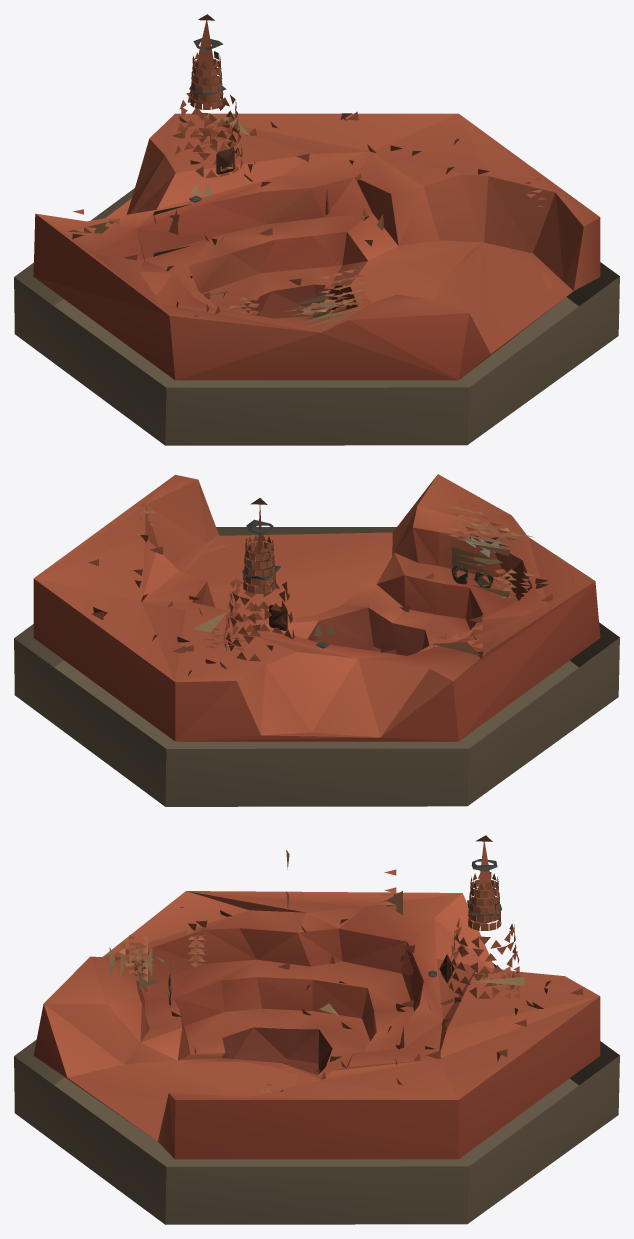
Rendered from tile_clay_lod1.glb.
The picture shows the model from 3 angles, top to bottom: view 1: azimuth 30°, elevation 25°; view 2: azimuth 150°, elevation 25°; view 3: azimuth 270°, elevation 25°; orthographic projection.
Parts seen in each view (by area): view 1: tile_clay_LOD1; view 2: tile_clay_LOD1; view 3: tile_clay_LOD1.
Part boxes in pixels (<box>): tile_clay_LOD1: <box>14,14,619,445</box>; tile_clay_LOD1: <box>14,474,619,806</box>; tile_clay_LOD1: <box>14,835,619,1224</box>.
Size of the model in its own units: 1.73 by 0.9523 by 1.99.
